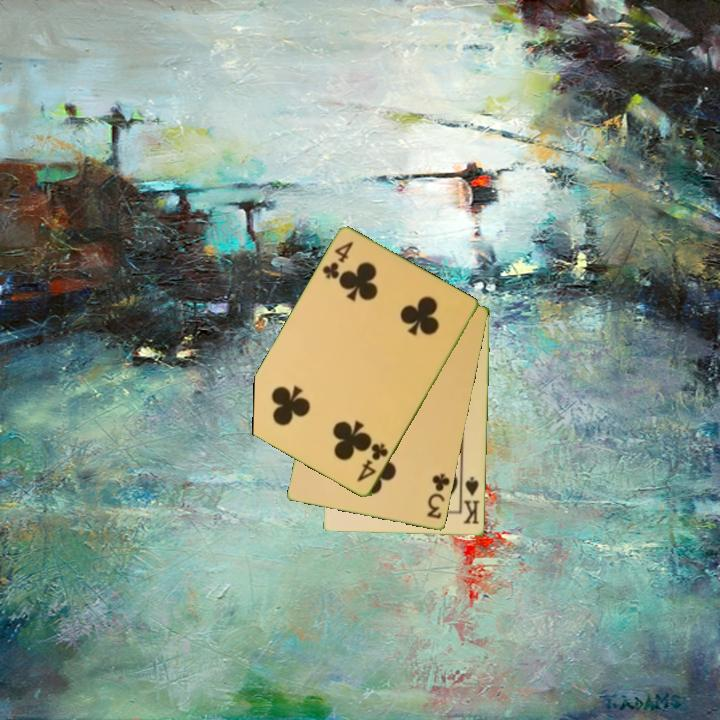3c: (423, 470, 453, 522)
4c: (353, 440, 391, 485), (319, 238, 356, 282)
Ks: (459, 473, 483, 527)
